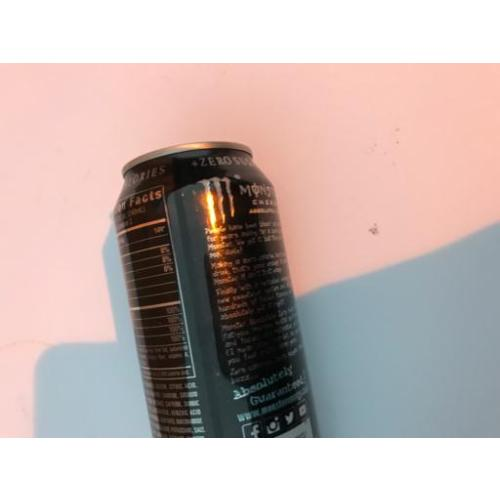metal: (121, 142, 318, 434)
